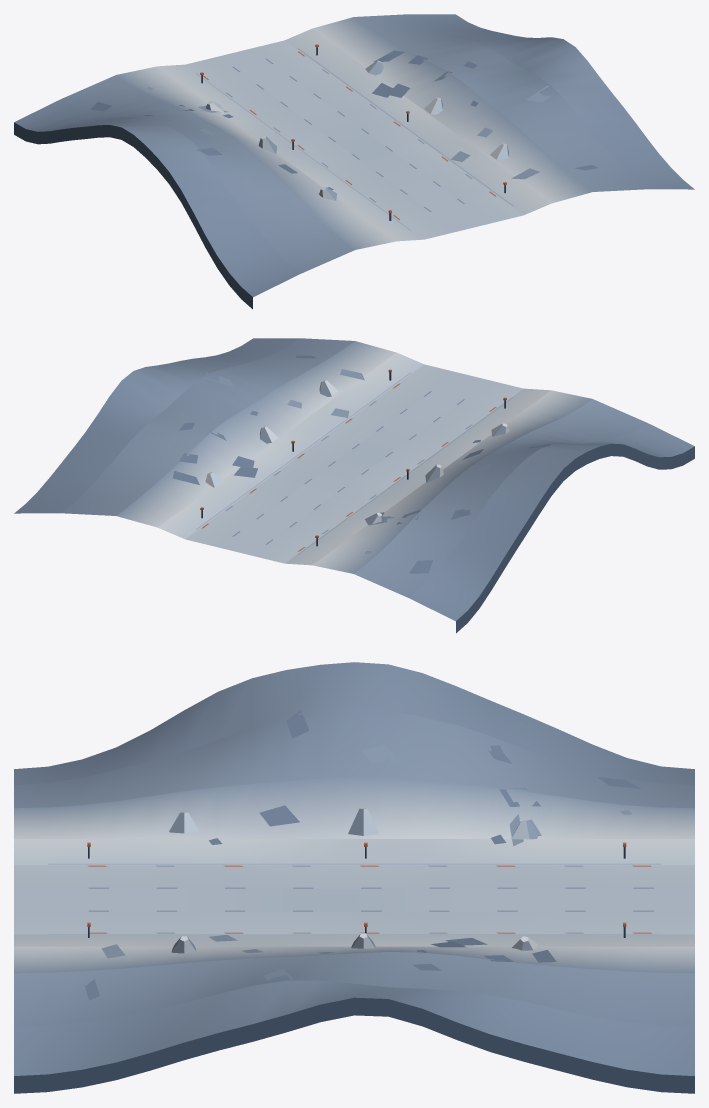
Rendered from 07-forest.glb.
The picture shows the model from 3 angles, top to bottom: view 1: azimuth 30°, elevation 25°; view 2: azimuth 150°, elevation 25°; view 3: azimuth 270°, elevation 25°; orthographic projection. The views are drawn at different scales.
Visible parts, largest first — view 1: forest; view 2: forest; view 3: forest.
Boxes of the visible parts, x1,y1,x2,y2 form: forest: [14, 14, 694, 309]; forest: [14, 338, 694, 633]; forest: [14, 662, 694, 1093].
Bounding box in the file's own units: 32 × 6.06 × 30.
